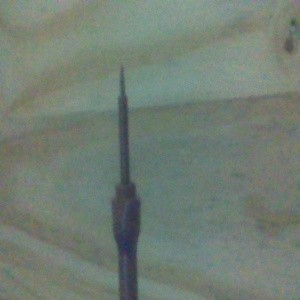solder: (110, 64, 142, 300)
